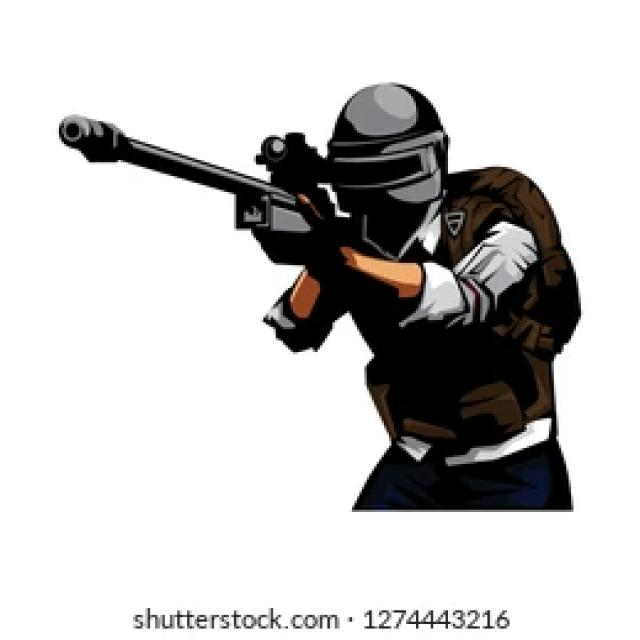soldier: (56, 68, 577, 521)
